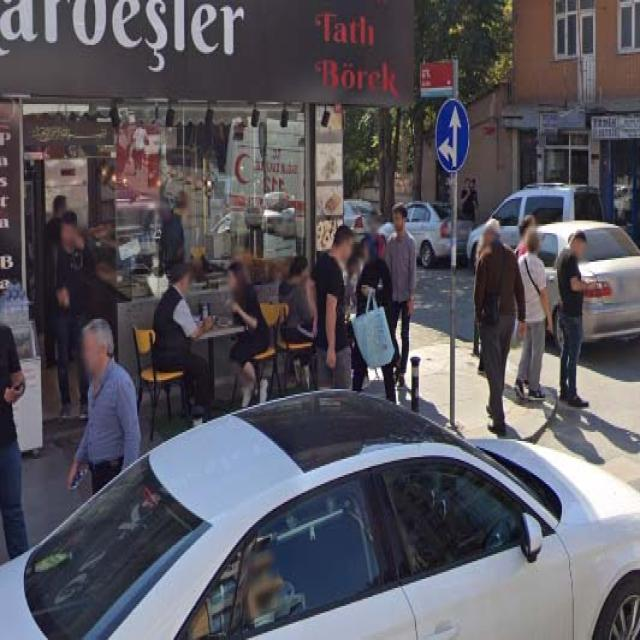ilerisol: (434, 99, 468, 172)
